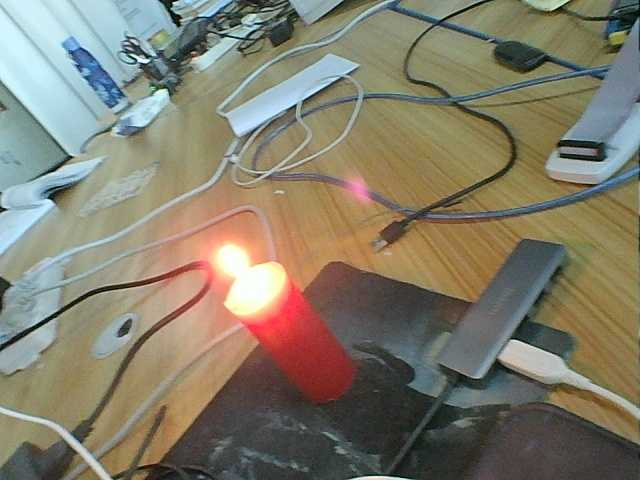candle: (234, 314, 356, 402)
fire: (207, 247, 275, 306)
